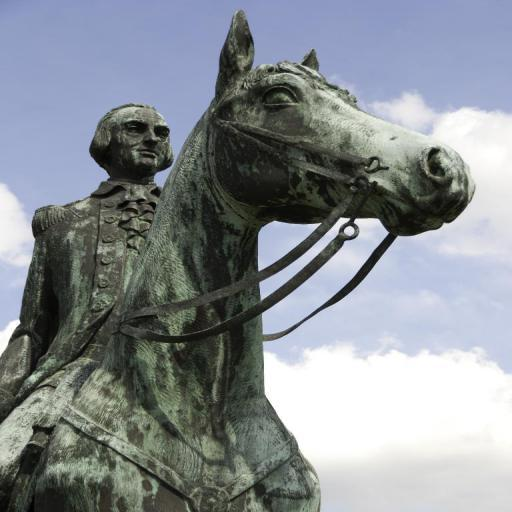Horse: (0, 7, 477, 511)
